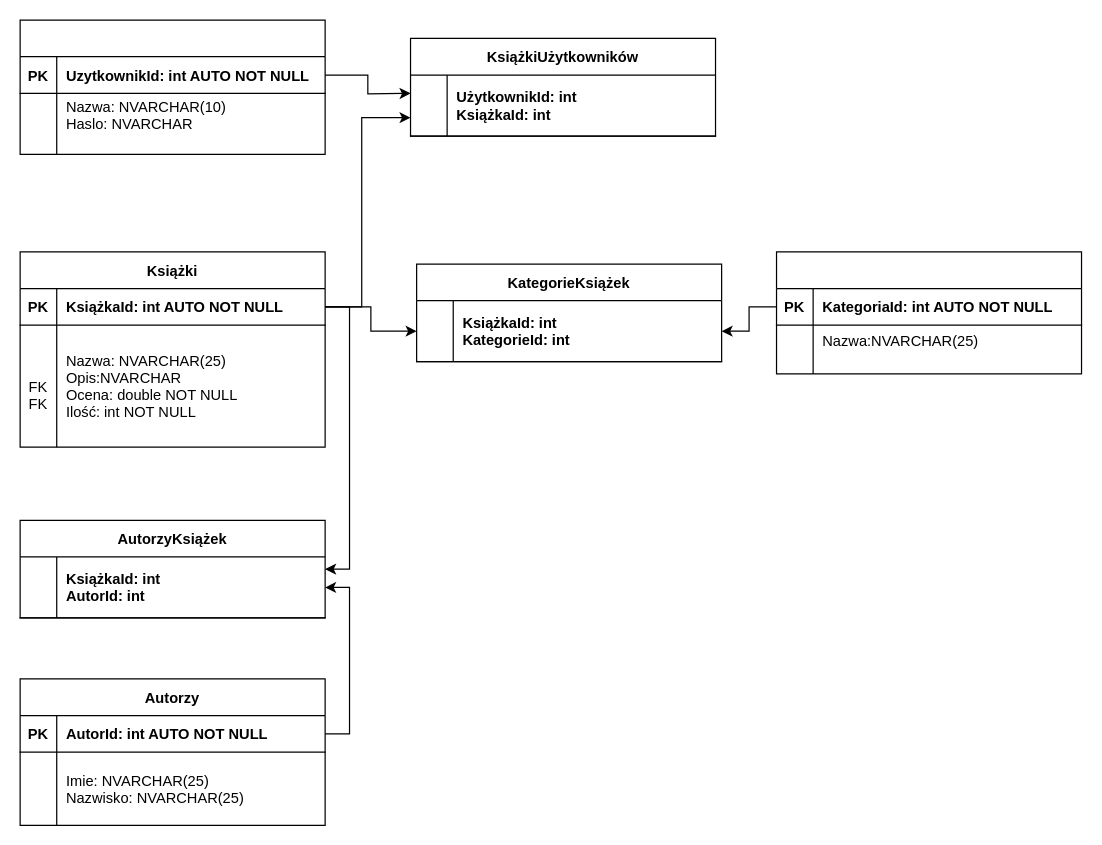
Image size: 1102x845. Some labels were removed from this diagram. The shapes that lost their labels are listed below. From the top down, each one's box as (x1, y1, x2, y2) in pixels, then its label:
(19, 19, 325, 154): Użytkownicy
(775, 251, 1082, 374): Kategorie
